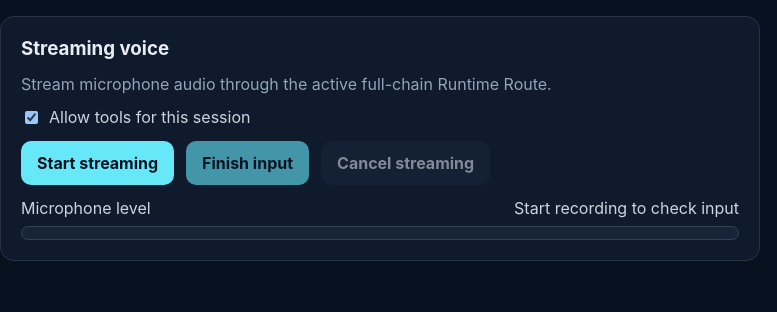
Test: StreamingVoiceControls › preserves cancellation when startup rejects after connecting
The width and height of the screenshot is (777, 312).
Step 1. Click the button "Start streaming" → point(98, 163), box x1=21 y1=141 x2=174 y2=185
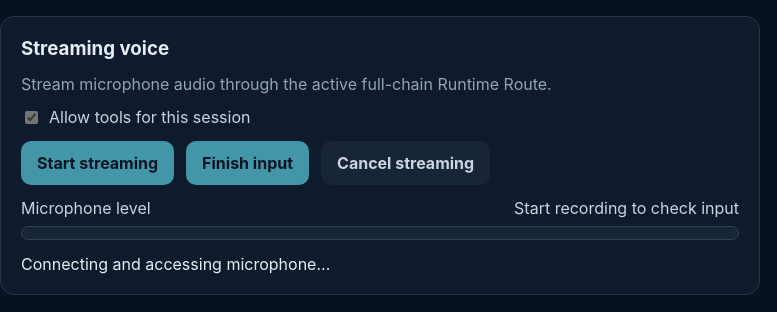
Step 2. Click the button "Cancel streaming" → point(406, 163), box x1=321 y1=141 x2=490 y2=185
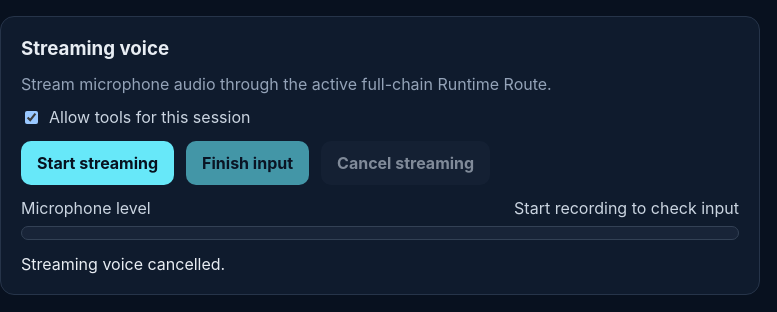
Check: the text "Streaming voice cancelled." is shown, box x1=21 y1=254 x2=225 y2=274
Check: the button "Start streaming" is enabled, box x1=21 y1=141 x2=174 y2=185
